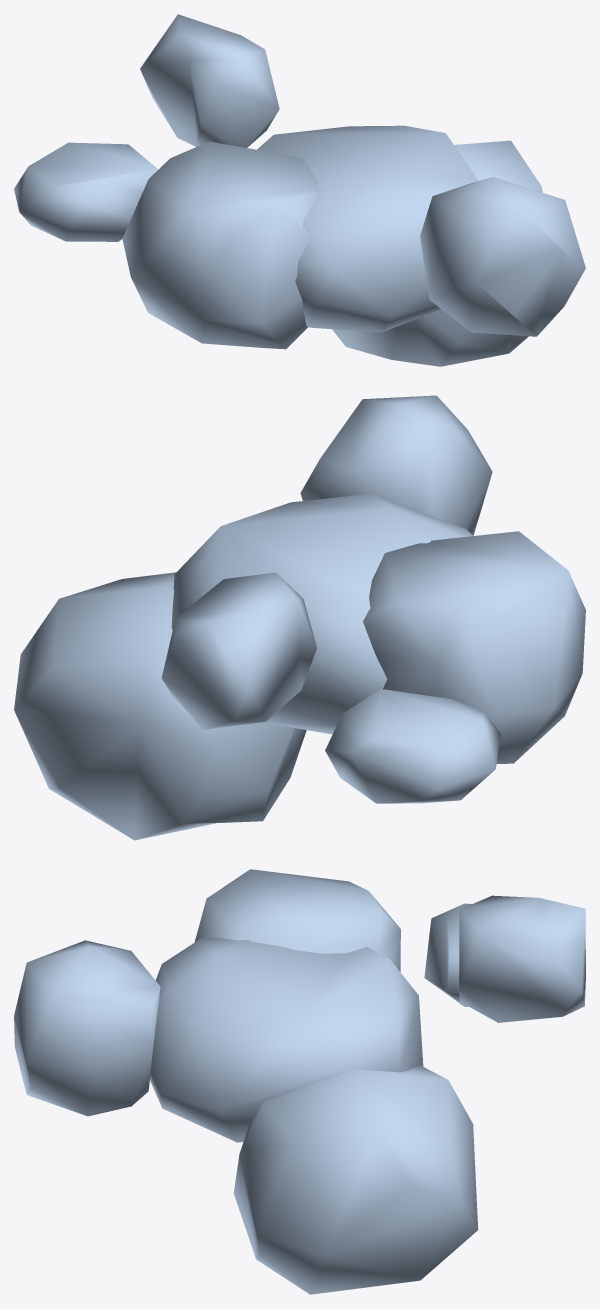
The model's file is cloud7.fbx.
The picture shows the model from 3 angles, top to bottom: view 1: azimuth 30°, elevation 25°; view 2: azimuth 150°, elevation 25°; view 3: azimuth 270°, elevation 25°; orthographic projection. The views are drawn at different scales.
Visible parts, largest first — view 1: cloud7; view 2: cloud7; view 3: cloud7.
Boxes of the visible parts, x1,y1,x2,y2 form: cloud7: (14, 14, 585, 366); cloud7: (14, 395, 585, 840); cloud7: (14, 869, 585, 1294).
Bounding box in the file's own units: 38.16 × 22.99 × 40.74.
